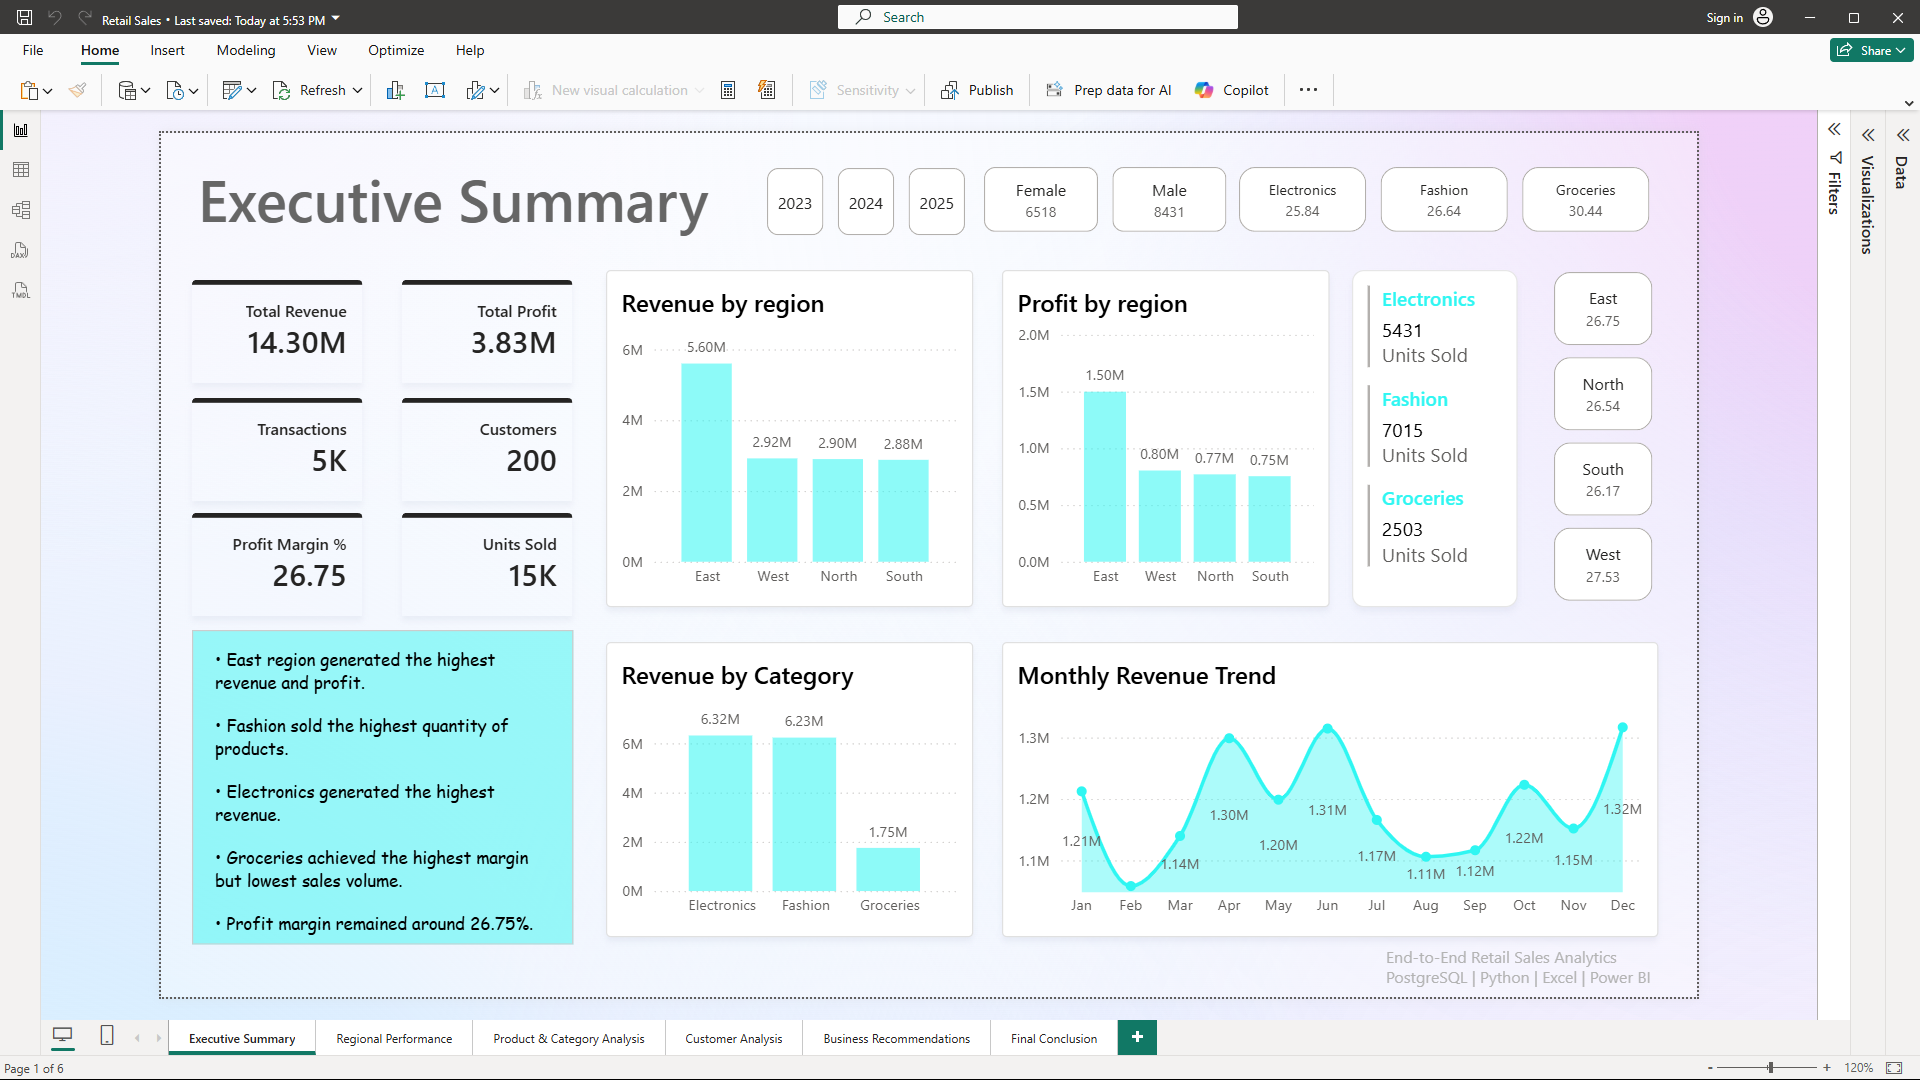

This screenshot's page, from the dashboard's own definition file:
{"tool":"powerbi","page":{"name":"Executive Summary","canvas":[1280,720],"ordinal":0},"visuals":[{"type":"cardVisual","fields":{"Data":["_Measures.Total Revenue"]},"box":[25.6,122.2,142.2,85.6],"z":0},{"type":"cardVisual","fields":{"Data":["_Measures.Total Profit"]},"box":[201.1,122.2,142.2,85.6],"z":1000},{"type":"cardVisual","fields":{"Data":["_Measures.Transactions"]},"box":[25.6,221.1,142.2,85.6],"z":2000},{"type":"cardVisual","fields":{"Data":["_Measures.Customers"]},"box":[201.1,221.1,142.2,85.6],"z":3000},{"type":"cardVisual","fields":{"Data":["_Measures.Profit Margin %"]},"box":[25.6,316.7,142.2,85.6],"z":4000},{"type":"columnChart","title":"Revenue by region","fields":{"Y":["_Measures.Total Revenue"],"Category":["retail_business_table.region"]},"box":[371.1,114.4,305.6,281.1],"z":5000},{"type":"columnChart","title":"Profit by region","fields":{"Category":["retail_business_table.region"],"Y":["Sum(retail_business_table.profit)"]},"box":[701.1,114.4,273.3,281.1],"z":6000},{"type":"columnChart","title":"Revenue by Category","fields":{"Y":["_Measures.Total Revenue"],"Category":["retail_business_table.category"]},"box":[371.1,424.4,305.6,245.6],"z":7000},{"type":"stackedAreaChart","title":"Monthly Revenue Trend","fields":{"Category":["DateTable.Month"],"Y":["_Measures.Total Revenue"]},"box":[701.1,424.4,546.7,245.6],"z":8000},{"type":"advancedSlicerVisual","fields":{"Values":["retail_business_table.region"]},"box":[1155.6,111.1,92.2,284.4],"z":9000},{"type":"advancedSlicerVisual","fields":{"Values":["retail_business_table.category"]},"box":[893.3,13.3,354.4,84.4],"z":10000},{"type":"advancedSlicerVisual","fields":{"Values":["retail_business_table.gender"]},"box":[681.1,13.3,212.2,84.4],"z":11000},{"type":"multiRowCard","fields":{"Values":["retail_business_table.category","_Measures.Units Sold"]},"box":[992.2,114.4,137.8,281.1],"z":12000},{"type":"textbox","box":[25.6,17.8,442.2,80],"z":13000},{"type":"shape","box":[25.6,414.4,317.8,262.2],"z":14000},{"type":"cardVisual","fields":{"Data":["_Measures.Units Sold"]},"box":[201.1,316.7,142.2,85.6],"z":15000},{"type":"textbox","box":[40,424.4,288.9,252.2],"z":16000},{"type":"advancedSlicerVisual","fields":{"Values":["DateTable.Year"]},"box":[500,14.4,176.7,86.7],"z":17000},{"type":"textbox","box":[1015.6,672.2,232.2,47.8],"z":18000}]}

Visuals, with their boxes on the page's 1280x720 design canvas (x1, y1, x2, y2). These are canvas units, not pixel positions in the 1920x1080 screenshot, which may show the page scaled, cropped or inside an application window:
cardVisual - _Measures.Total Revenue: box(26, 122, 168, 208)
cardVisual - _Measures.Total Profit: box(201, 122, 343, 208)
cardVisual - _Measures.Transactions: box(26, 221, 168, 307)
cardVisual - _Measures.Customers: box(201, 221, 343, 307)
cardVisual - _Measures.Profit Margin %: box(26, 317, 168, 402)
"Revenue by region" columnChart: box(371, 114, 677, 396)
"Profit by region" columnChart: box(701, 114, 974, 396)
"Revenue by Category" columnChart: box(371, 424, 677, 670)
"Monthly Revenue Trend" stackedAreaChart: box(701, 424, 1248, 670)
advancedSlicerVisual - retail_business_table.region: box(1156, 111, 1248, 396)
advancedSlicerVisual - retail_business_table.category: box(893, 13, 1248, 98)
advancedSlicerVisual - retail_business_table.gender: box(681, 13, 893, 98)
multiRowCard - retail_business_table.category x _Measures.Units Sold: box(992, 114, 1130, 396)
textbox: box(26, 18, 468, 98)
shape: box(26, 414, 343, 677)
cardVisual - _Measures.Units Sold: box(201, 317, 343, 402)
textbox: box(40, 424, 329, 677)
advancedSlicerVisual - DateTable.Year: box(500, 14, 677, 101)
textbox: box(1016, 672, 1248, 720)
